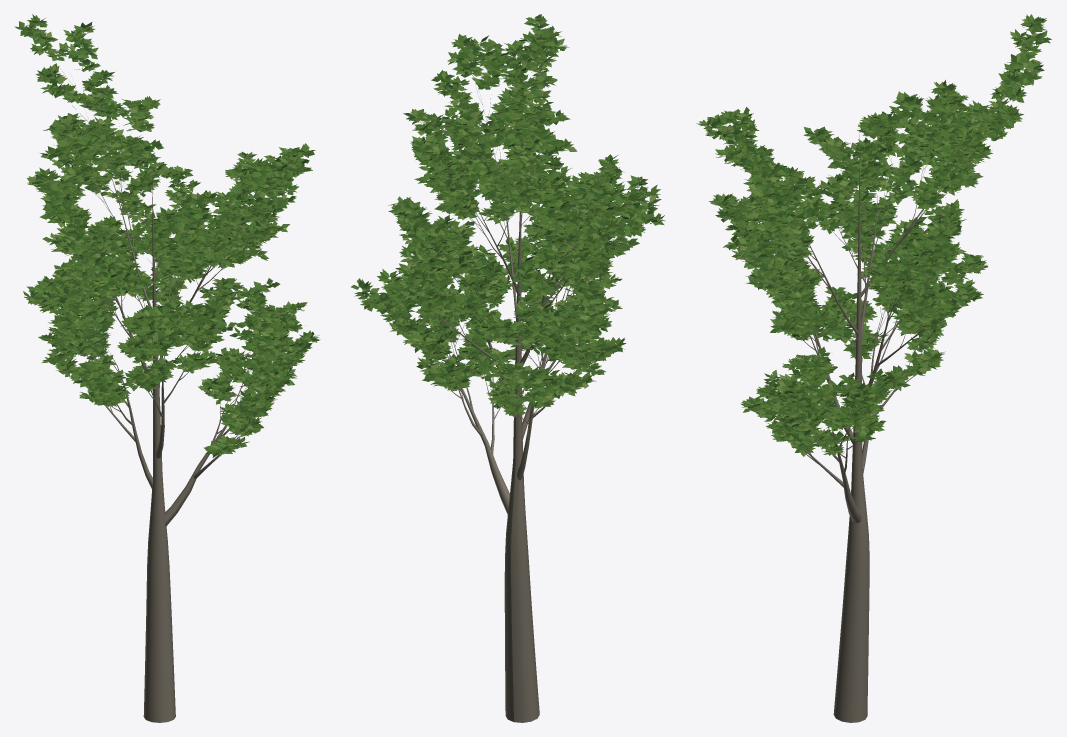
Rendered from tree_03.glb.
3 renders of one model, left to right at view 1: azimuth 30°, elevation 25°; view 2: azimuth 150°, elevation 25°; view 3: azimuth 270°, elevation 25°, orthographic. The views are drawn at different scales.
Parts seen in each view (by area): view 1: Tree_03_leaf_clusters, Tree_03_trunk_branches; view 2: Tree_03_leaf_clusters, Tree_03_trunk_branches; view 3: Tree_03_leaf_clusters, Tree_03_trunk_branches.
Boxes of the visible parts, left/top/right/bottom form: Tree_03_leaf_clusters: left=14, top=14, right=320, bottom=457; Tree_03_trunk_branches: left=34, top=40, right=295, bottom=722; Tree_03_leaf_clusters: left=351, top=14, right=665, bottom=417; Tree_03_trunk_branches: left=388, top=39, right=647, bottom=722; Tree_03_leaf_clusters: left=696, top=14, right=1051, bottom=456; Tree_03_trunk_branches: left=715, top=23, right=1040, bottom=722.
Size of the model in its own units: 4.29 by 10.81 by 5.15.
